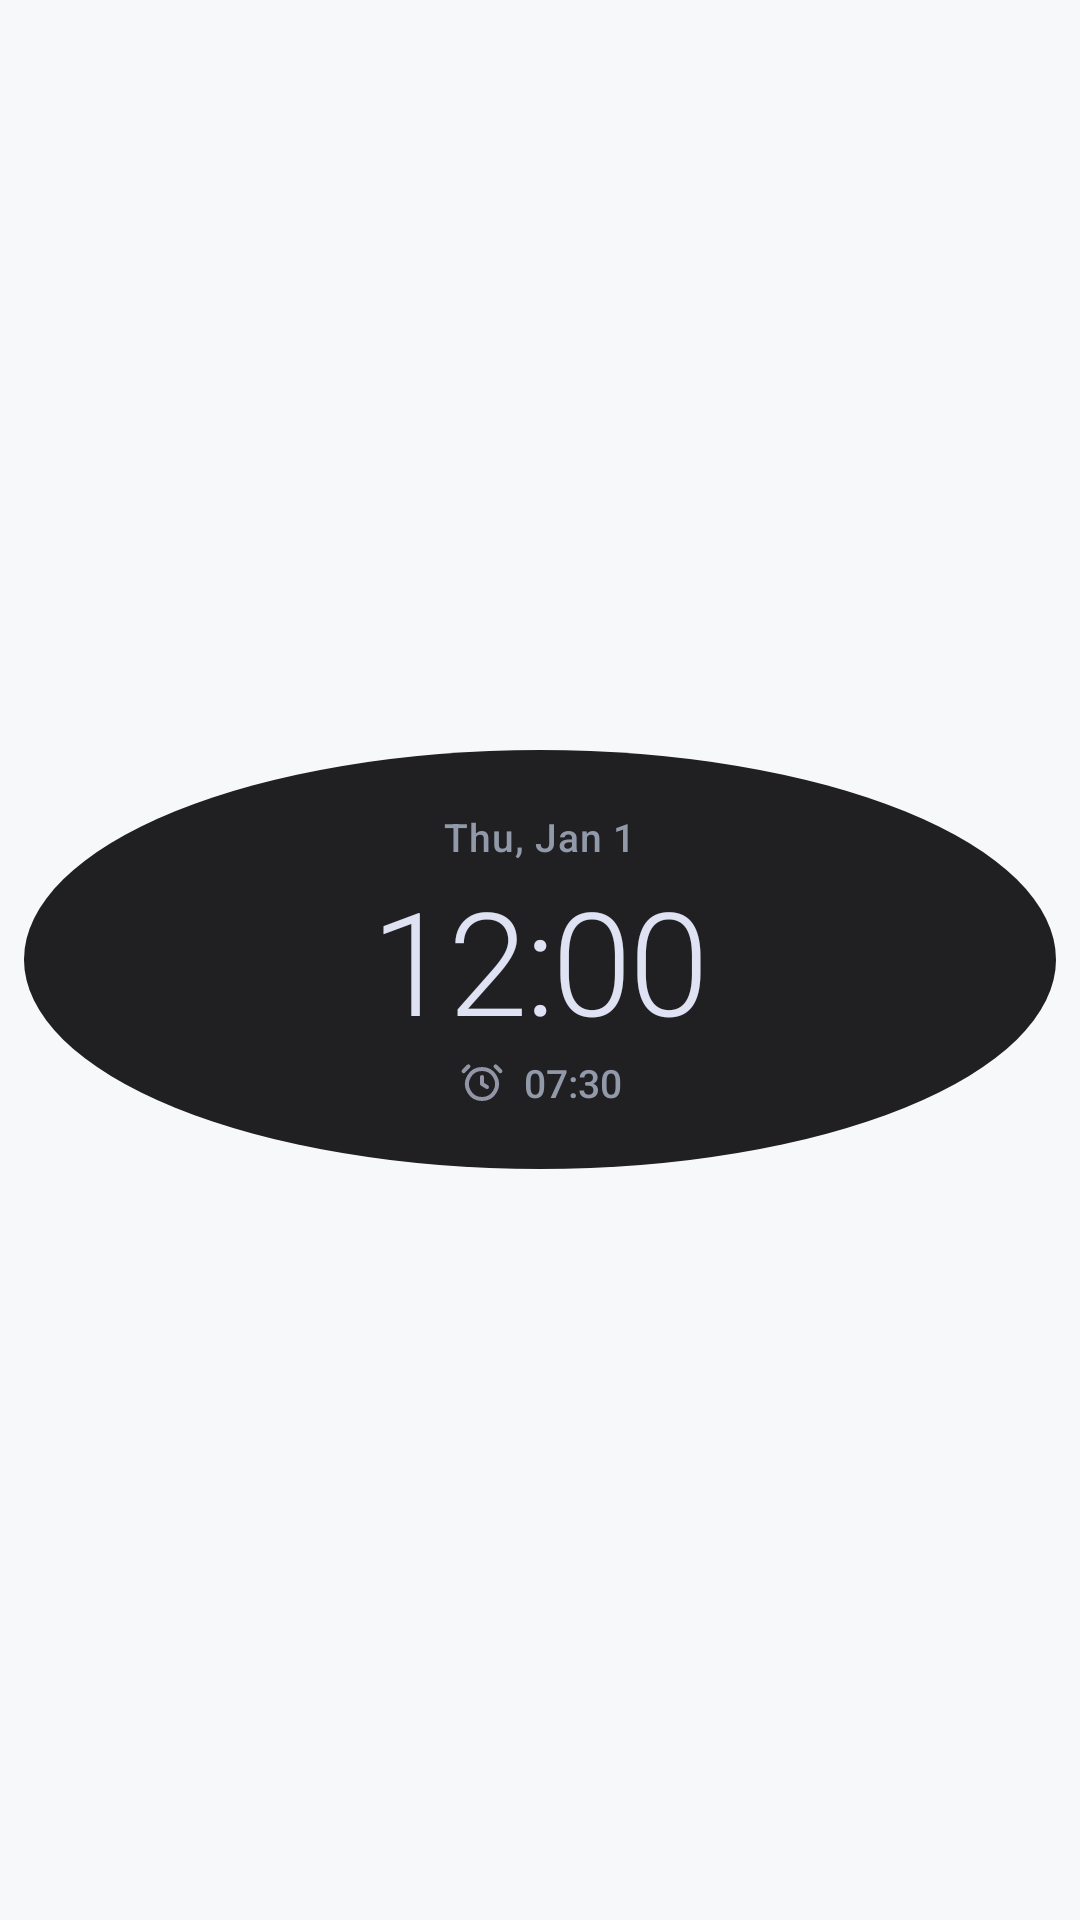

Named icons in this screenshot (1080px×1920px) and their bounding boxes, (x1, y1, x2, y2):
widget alarm: (461, 1064, 503, 1101)
